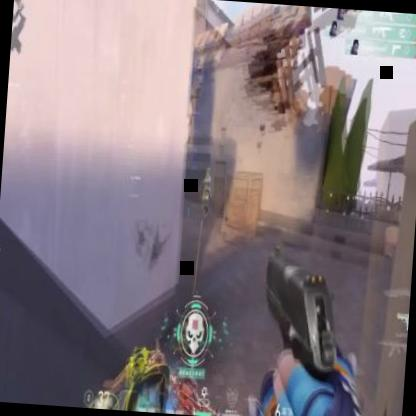enemy: (198, 168, 212, 218)
enemy_head: (205, 167, 210, 176)
